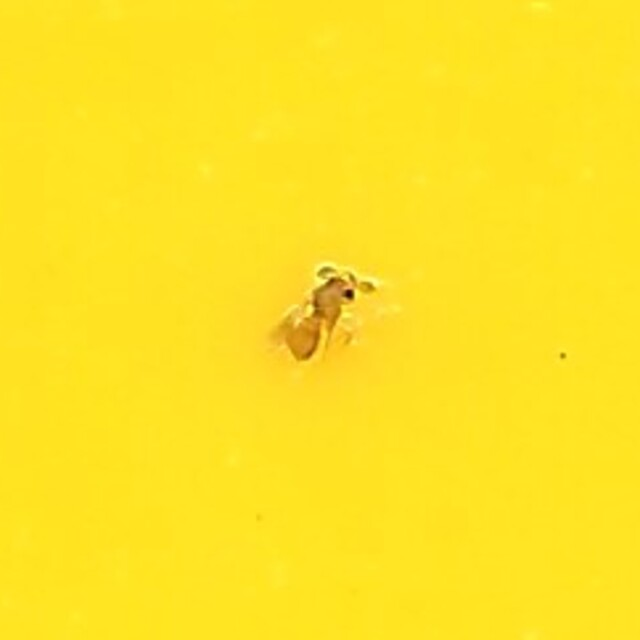Hymenoptera: (264, 254, 376, 386)
